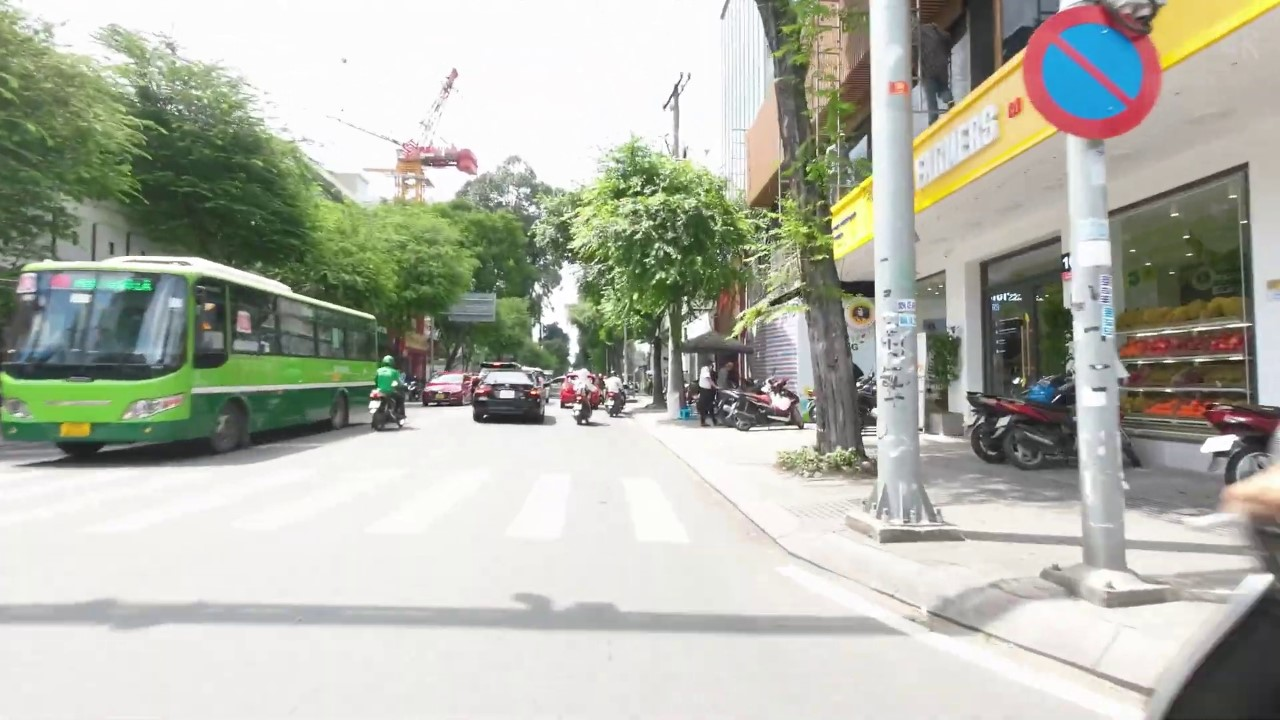cam_do_xe: (1021, 1, 1164, 141)
